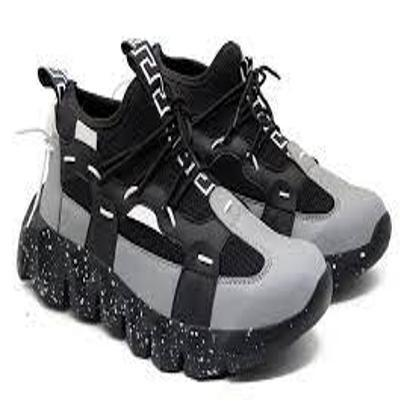not trash: (19, 28, 392, 385)
